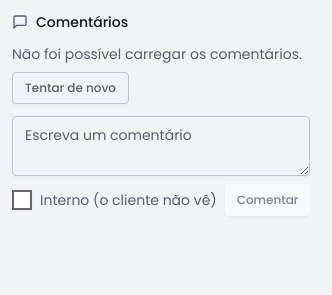
Test: ComentariosDoRegistro › lista que falha diz que falhou e deixa tentar de novo
Step 1. Click the button "Tentar de novo" → point(70, 88), box [12,72,129,104]
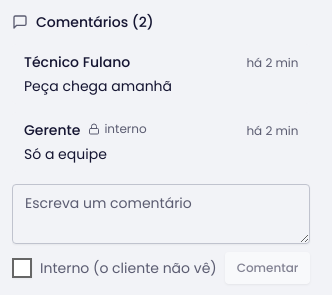
Now the text "Peça chega amanhã" is shown, box [24,76,172,96]
